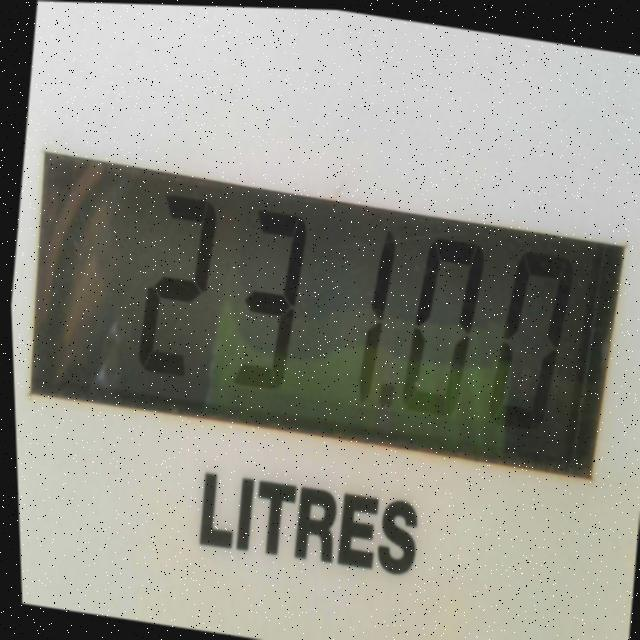.: (373, 359, 407, 418)
0: (384, 238, 492, 466), (473, 245, 576, 453)
1: (326, 215, 404, 409)
2: (118, 181, 224, 397)
3: (212, 200, 321, 406)
